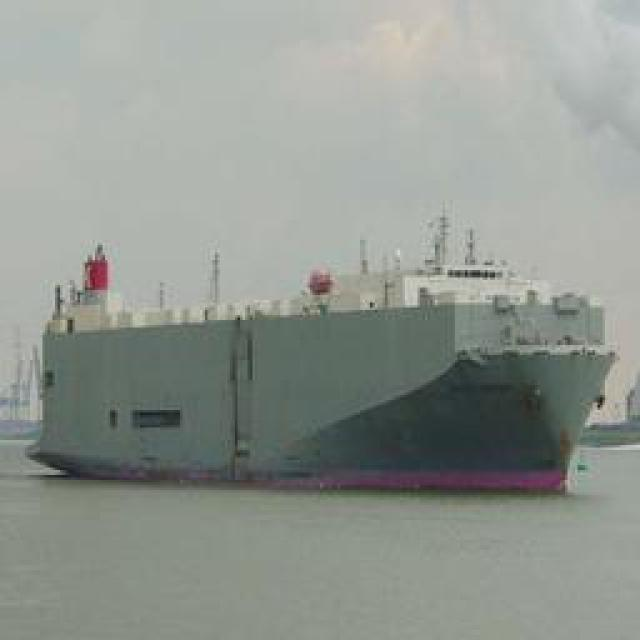Ship: (26, 195, 619, 510)
